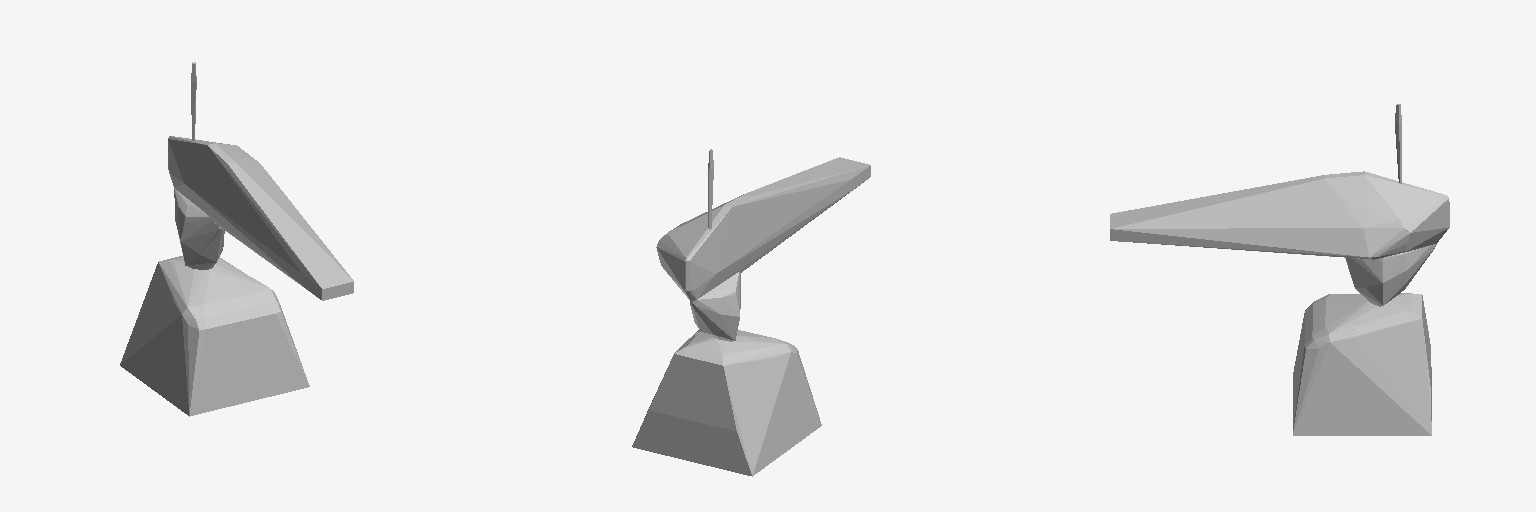
The model's file is Ultrakill_Sentry.obj.
3 views of the same model, side by side, from view 1: azimuth 30°, elevation 25°; view 2: azimuth 150°, elevation 25°; view 3: azimuth 270°, elevation 25° (orthographic).
Visible parts, largest first — view 1: TurretBot_Baked.001, TurretBot_Baked.002, TurretBot_Baked.004, TurretBot_Baked; view 2: TurretBot_Baked.001, TurretBot_Baked.002, TurretBot_Baked.004; view 3: TurretBot_Baked.002, TurretBot_Baked.001, TurretBot_Baked.004, TurretBot_Baked.
Boxes of the visible parts, x1,y1,x2,y2 form: TurretBot_Baked.001: [120, 256, 309, 416]; TurretBot_Baked.002: [168, 136, 353, 300]; TurretBot_Baked.004: [174, 188, 224, 269]; TurretBot_Baked: [188, 62, 353, 330]; TurretBot_Baked.001: [632, 330, 821, 476]; TurretBot_Baked.002: [656, 157, 870, 301]; TurretBot_Baked.004: [690, 272, 740, 341]; TurretBot_Baked.002: [1110, 172, 1449, 259]; TurretBot_Baked.001: [1293, 293, 1431, 435]; TurretBot_Baked.004: [1345, 245, 1433, 306]; TurretBot_Baked: [1305, 104, 1449, 348].
Bounding box in the file's own units: 42.05 × 100 × 102.